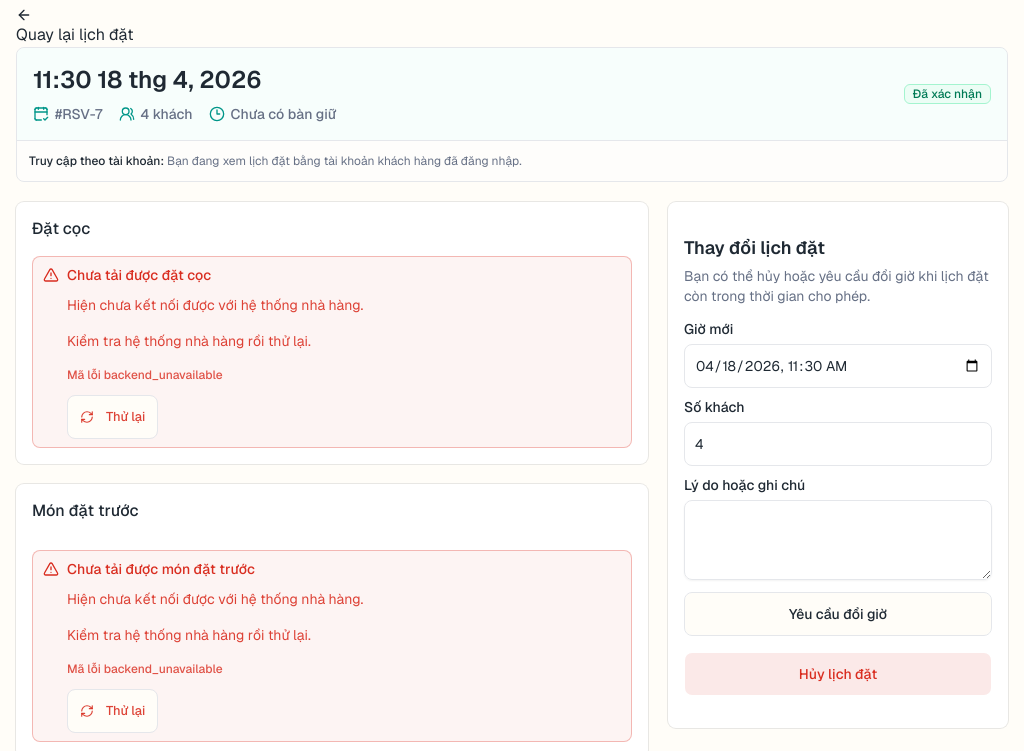
ReservationDetailPage › refetches reservation detail after a stale conflict and keeps the refresh guidance visible
This screenshot has width=1024, height=751.
Click the button "Hủy lịch đặt": (838, 674) [684,652,992,696]
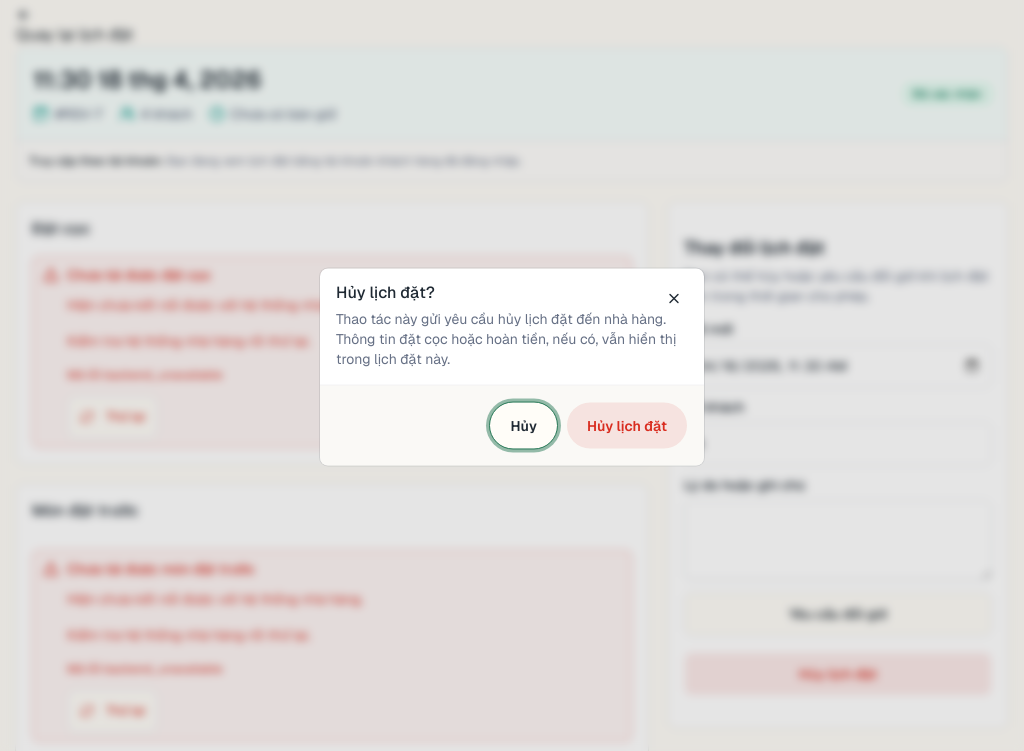
Click the button "Hủy lịch đặt": (627, 426) [566,402,688,450]
(page scrolled)
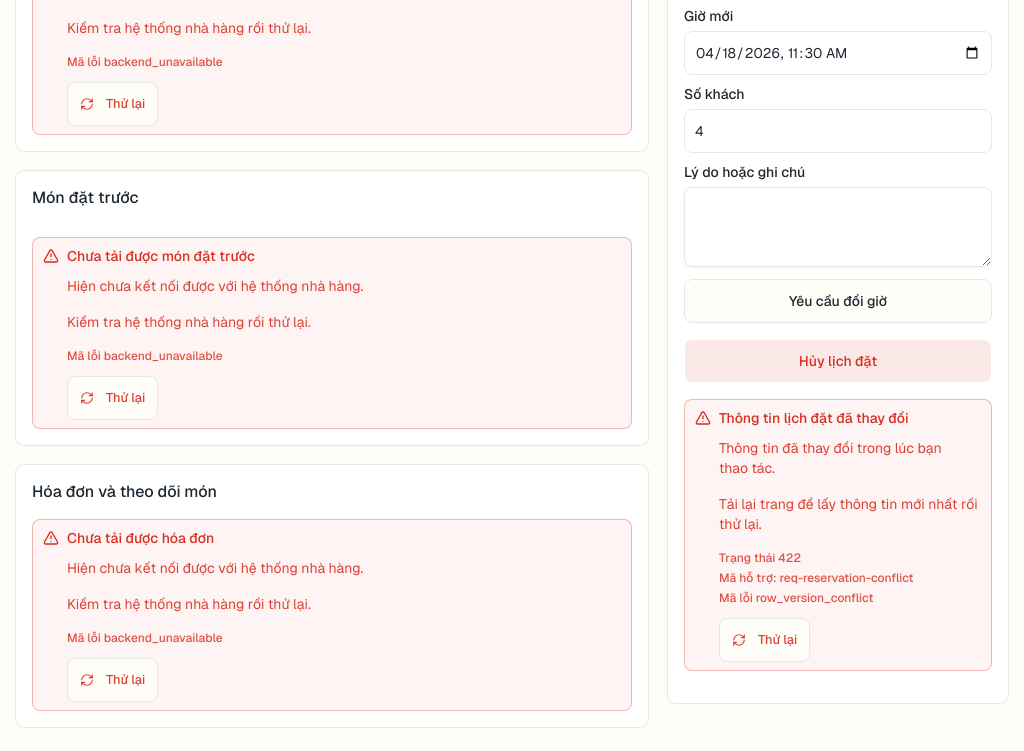
Expected: the text "Thông tin lịch đặt đã thay đổi" is shown, [719,409,909,427]
Expected: the text "Thông tin đã thay đổi trong lúc bạn thao tác." is shown, [719,439,942,477]
